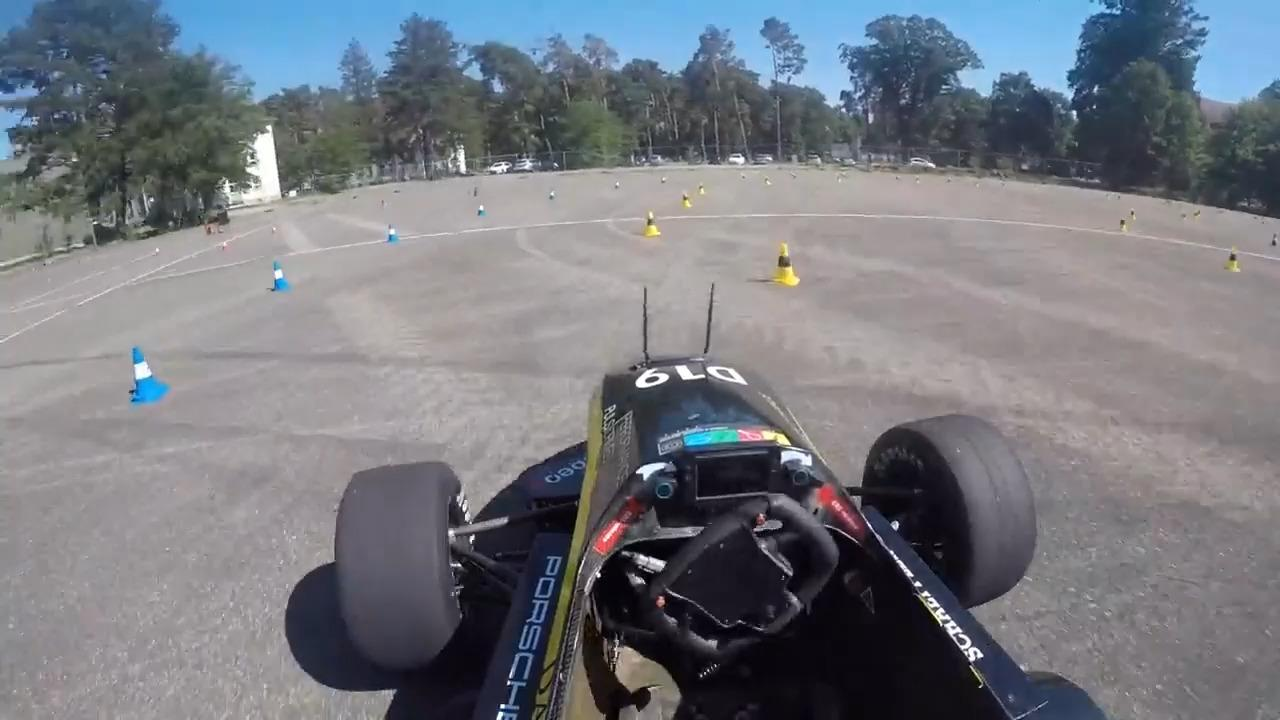blue_cone: (130, 345, 169, 408), (272, 261, 292, 293), (386, 223, 400, 243)
yellow_cone: (767, 243, 801, 286), (641, 210, 662, 237)
